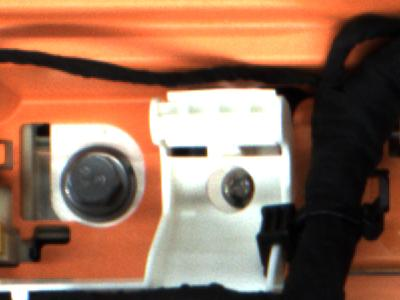nut_b: (59, 146, 138, 224)
